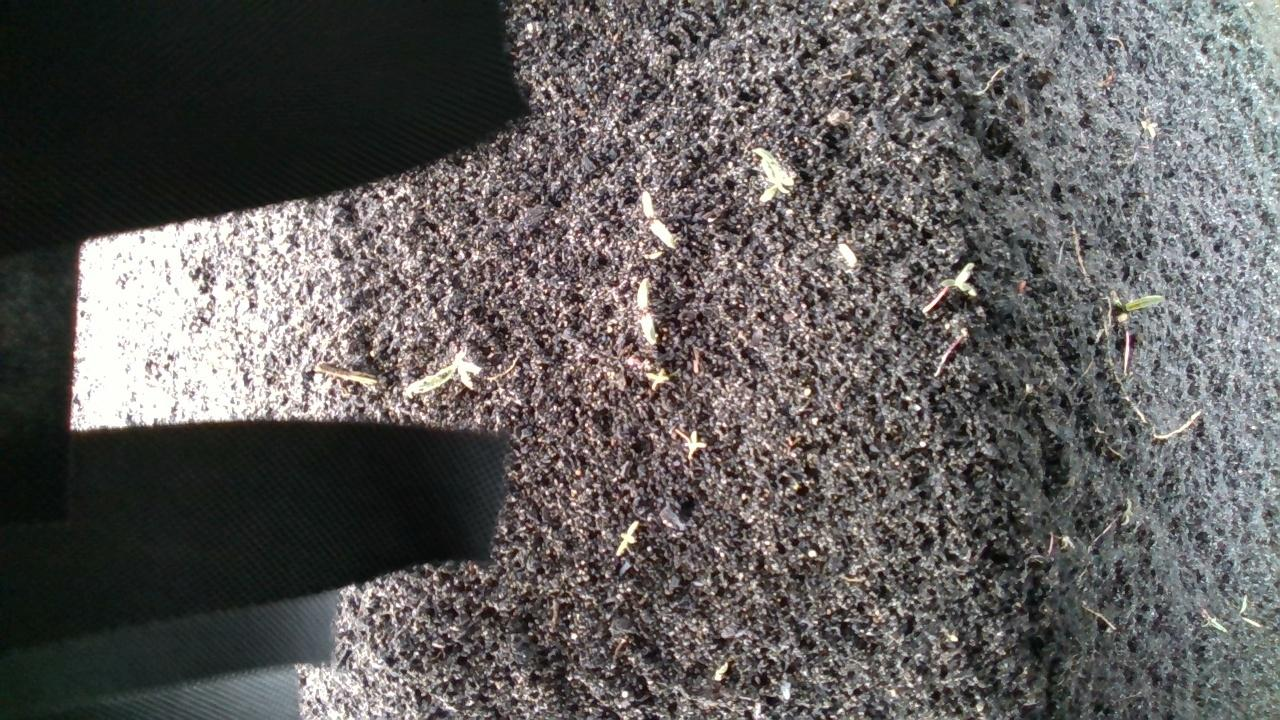weed: (939, 253, 997, 305), (1115, 282, 1171, 317), (636, 368, 685, 402), (675, 426, 706, 463)
